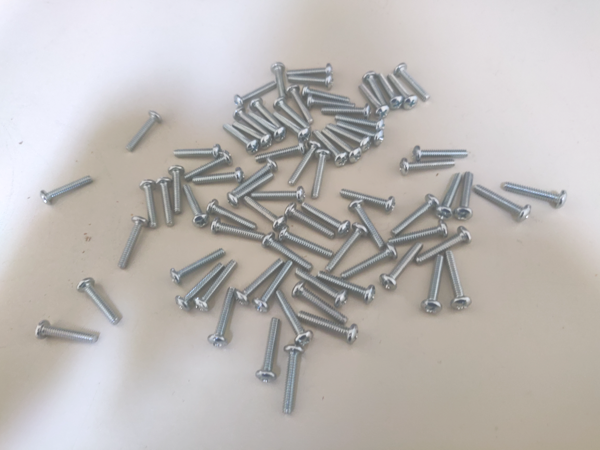longscrew: (293, 279, 350, 328), (474, 184, 533, 223), (196, 260, 240, 311), (295, 309, 359, 344), (178, 263, 223, 312), (318, 266, 377, 303), (382, 242, 427, 290), (295, 267, 348, 305), (79, 277, 120, 326), (40, 167, 90, 207), (418, 227, 471, 264), (396, 190, 438, 236), (278, 222, 333, 257), (264, 234, 319, 269), (238, 260, 281, 304), (257, 261, 294, 312), (259, 318, 288, 383), (117, 218, 153, 270), (172, 249, 222, 286), (501, 182, 569, 209), (224, 174, 274, 210), (330, 225, 369, 271), (279, 291, 310, 346), (423, 256, 451, 316), (206, 199, 258, 231), (345, 246, 396, 278), (232, 158, 277, 193), (351, 201, 385, 247), (212, 288, 238, 347), (303, 203, 348, 237), (286, 203, 331, 237), (183, 150, 230, 182), (281, 344, 300, 420), (323, 126, 361, 164), (33, 324, 106, 343), (127, 111, 160, 152), (291, 143, 322, 185), (338, 189, 396, 211), (436, 172, 463, 219), (388, 224, 448, 245), (331, 119, 383, 143), (246, 186, 305, 207), (324, 127, 371, 153), (210, 221, 266, 241), (232, 80, 275, 106), (389, 72, 419, 109), (449, 251, 468, 309), (357, 82, 387, 118), (234, 110, 274, 137), (363, 72, 392, 109), (253, 143, 304, 164), (455, 173, 477, 221), (315, 130, 347, 163), (248, 197, 282, 228), (398, 63, 427, 99), (374, 71, 403, 107), (221, 124, 258, 152), (312, 146, 330, 201), (411, 142, 468, 159), (397, 156, 454, 173), (248, 112, 285, 138), (189, 168, 242, 186), (233, 121, 272, 145), (275, 97, 308, 125), (290, 84, 313, 124), (272, 115, 310, 138), (141, 177, 156, 231), (184, 180, 200, 229), (286, 62, 333, 78), (285, 71, 332, 87), (301, 85, 348, 101), (323, 103, 370, 119), (336, 115, 382, 131), (307, 94, 354, 109), (253, 99, 280, 124), (160, 174, 172, 230), (169, 146, 219, 158), (171, 164, 182, 216), (272, 62, 285, 100)
